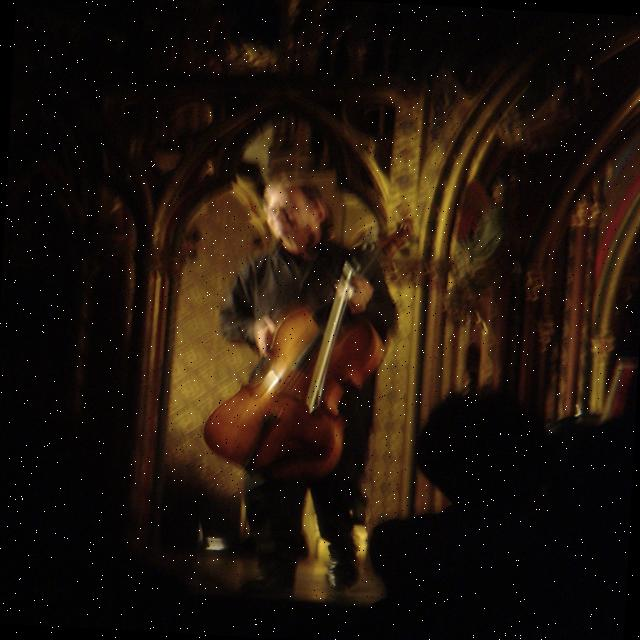cello: (196, 205, 421, 486)
